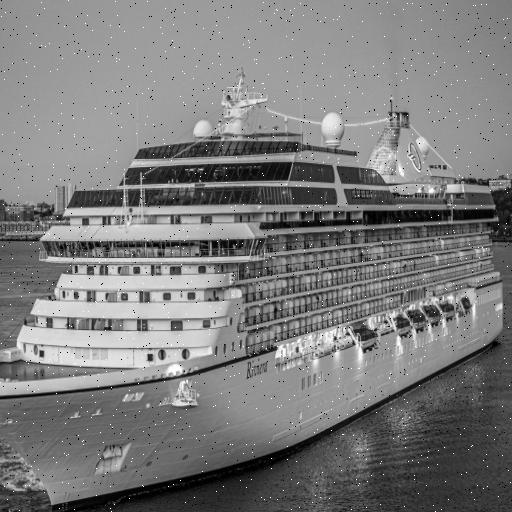cruises: (1, 68, 512, 512)
